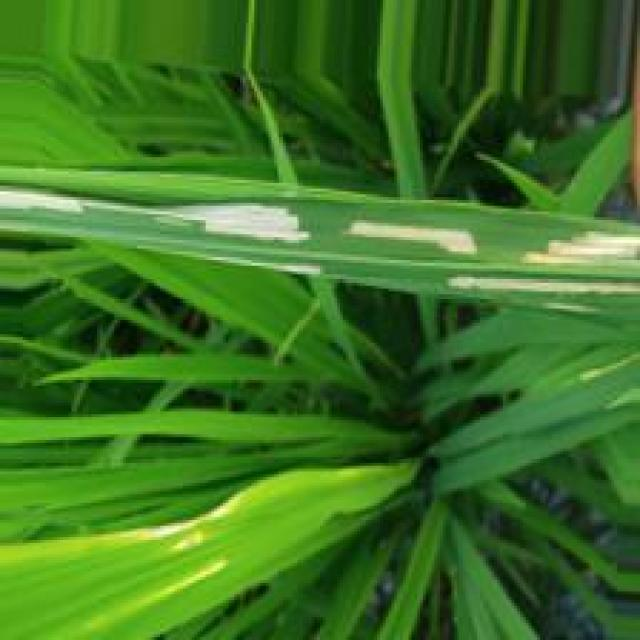Rice_Hispa: (0, 182, 305, 235), (510, 224, 640, 268), (341, 220, 478, 255)
